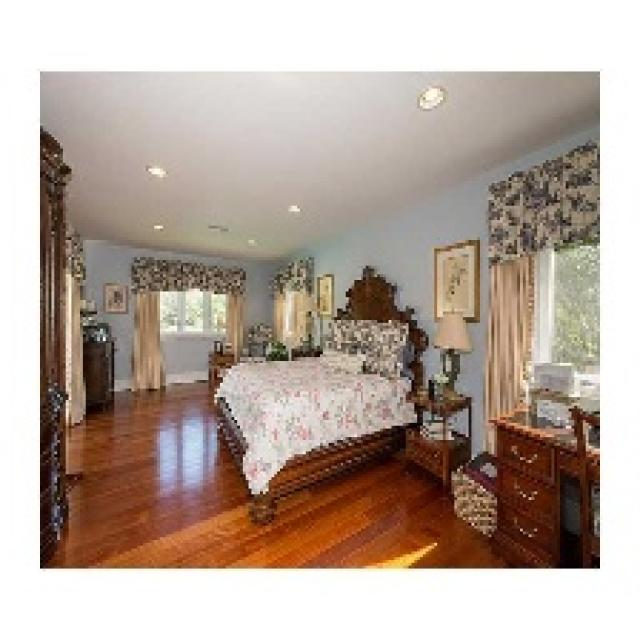Bed: (212, 263, 428, 523)
